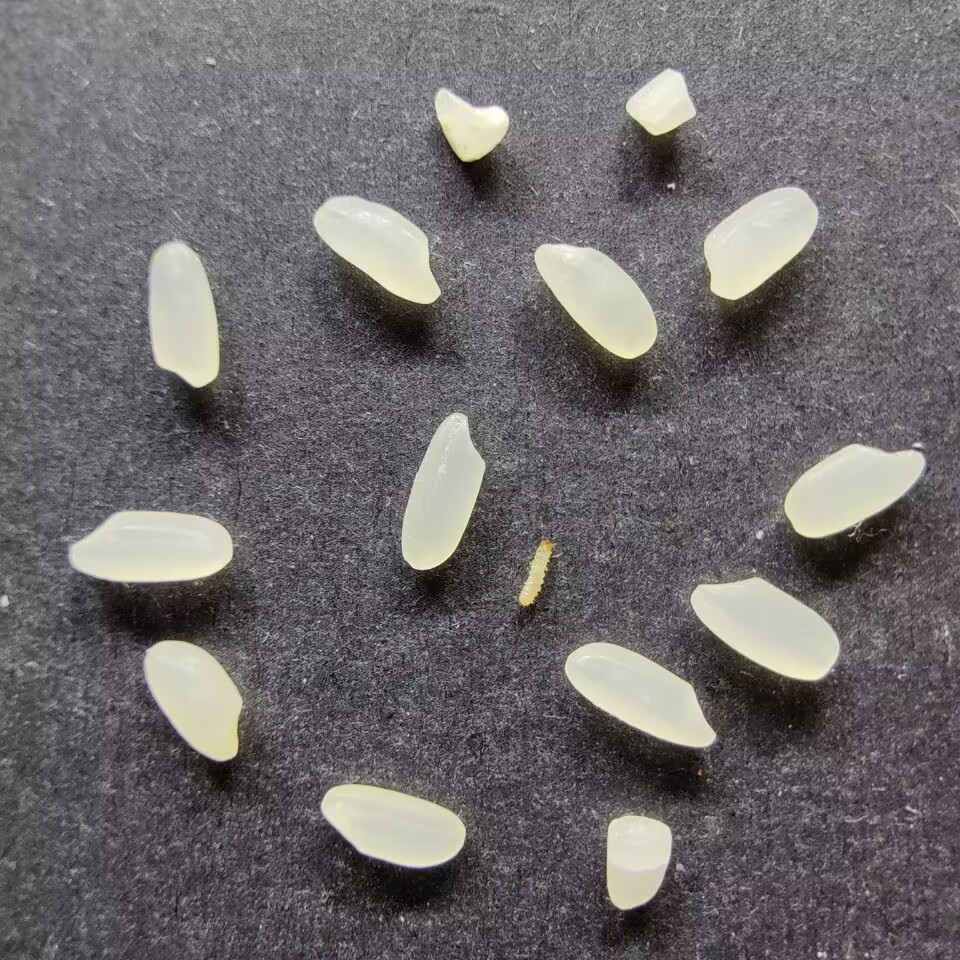broken: (604, 815, 673, 910), (432, 86, 511, 162), (623, 66, 697, 137)
others: (517, 534, 558, 609)
rice: (563, 641, 718, 749), (688, 575, 839, 682), (532, 242, 659, 358), (311, 195, 441, 305), (783, 441, 926, 539), (399, 411, 486, 571), (703, 185, 819, 300), (319, 783, 467, 868), (142, 639, 244, 762), (67, 509, 233, 584), (145, 241, 220, 388)
